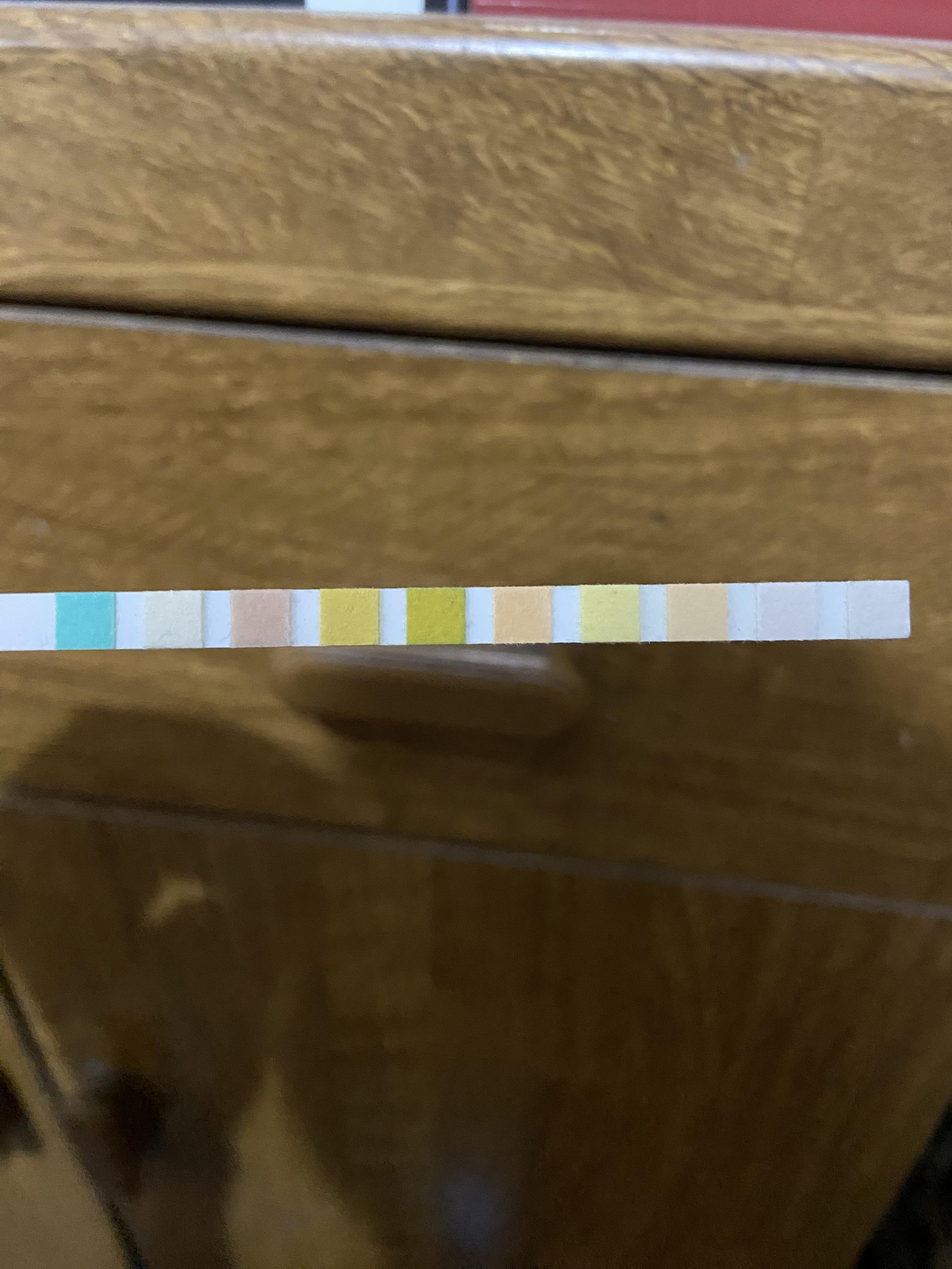Bilirubin: (148, 593, 202, 647)
Blood: (410, 589, 464, 643)
Glucose: (58, 595, 113, 649)
Ketone: (234, 592, 289, 646)
Leukocytes: (850, 583, 904, 637)
Nitrite: (760, 584, 815, 638)
Protein: (584, 586, 638, 640)
SpGravity: (322, 590, 377, 643)
Urobilinogen: (669, 585, 724, 639)
pH: (496, 589, 551, 642)
strip: (1, 580, 910, 651)
